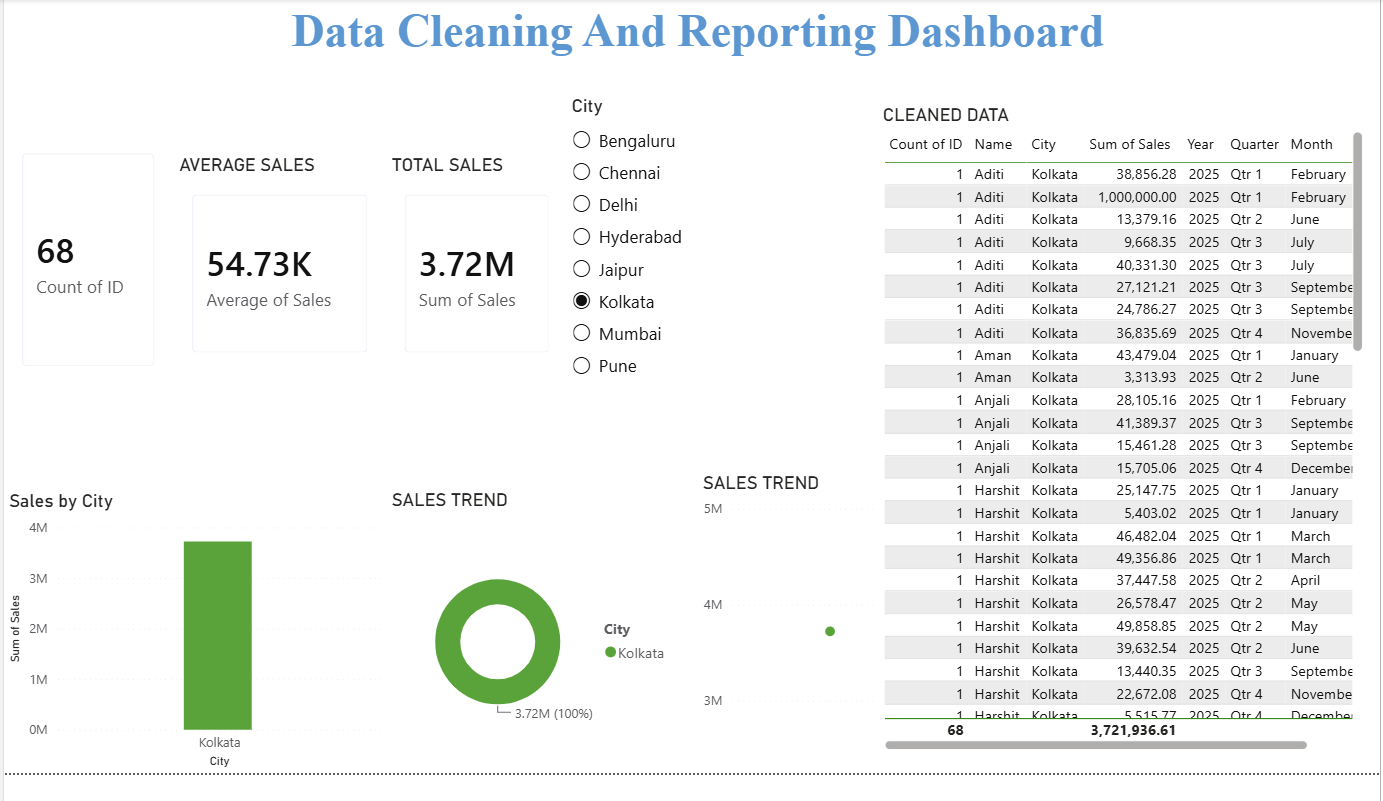

This screenshot's page, from the dashboard's own definition file:
{"tool":"powerbi","page":{"name":"DataCleaningDashboard.pbix","canvas":[1280,720],"ordinal":0},"visuals":[{"type":"textbox","box":[10.5,0,1269.8,89.5],"z":0},{"type":"cardVisual","title":"TOTAL SALES","fields":{"Data":["Sum(Sheet1 (2).Sales)"]},"box":[355.4,144,168.2,201.9],"z":1000},{"type":"cardVisual","title":"AVERAGE SALES","fields":{"Data":["Avg(Sheet1 (2).Sales)"]},"box":[157.7,144,197.7,201.9],"z":2000},{"type":"clusteredColumnChart","title":"Sales by City","fields":{"Category":["Sheet1 (2).City"],"Y":["Sum(Sheet1 (2).Sales)"]},"box":[0,457,355.8,262.8],"z":3000},{"type":"donutChart","title":"SALES TREND","fields":{"Category":["Sheet1 (2).City"],"Y":["Sum(Sheet1 (2).Sales)"]},"box":[355.8,455.8,273.3,264],"z":4000},{"type":"lineChart","title":" SALES TREND","fields":{"Y":["Sum(Sheet1 (2).Sales)"]},"box":[645.4,439.5,218.6,264],"z":5000},{"type":"tableEx","title":" CLEANED DATA","fields":{"Values":["CountNonNull(Sheet1 (2).ID)","Sheet1 (2).Name","Sheet1 (2).City","Sum(Sheet1 (2).Sales)","Sheet1 (2).Date.Variation.Date Hierarchy.Year","Sheet1 (2).Date.Variation.Date Hierarchy.Quarter","Sheet1 (2).Date.Variation.Date Hierarchy.Month","Sheet1 (2).Date.Variation.Date Hierarchy.Day"]},"box":[812.8,97.7,455.8,605.8],"z":6000},{"type":"listSlicer","fields":{"Values":["Sheet1 (2).City"]},"box":[523.6,89.4,247.1,295.4],"z":7000},{"type":"cardVisual","fields":{"Data":["CountNonNull(Sheet1 (2).ID)"]},"box":[0,127.2,157.7,232.4],"z":8000}]}

Visuals, with their boxes in screenshot pixels (x1, y1, x2, y2), scaled from the page's 1280x720 canvas onto the 1383x801 screenshot:
textbox: l=11, t=0, r=1382, b=100
"TOTAL SALES" cardVisual: l=384, t=160, r=566, b=385
"AVERAGE SALES" cardVisual: l=170, t=160, r=384, b=385
"Sales by City" clusteredColumnChart: l=0, t=508, r=384, b=800
"SALES TREND" donutChart: l=384, t=507, r=680, b=800
" SALES TREND" lineChart: l=697, t=489, r=934, b=783
" CLEANED DATA" tableEx: l=878, t=109, r=1371, b=783
listSlicer - Sheet1 (2).City: l=566, t=99, r=833, b=428
cardVisual - CountNonNull(Sheet1 (2).ID): l=0, t=142, r=170, b=400
